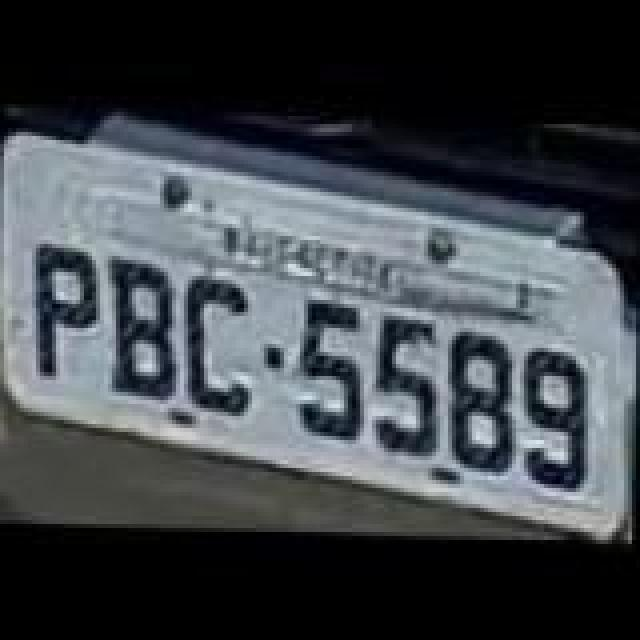5: (296, 298, 372, 446), (366, 314, 446, 454)
8: (440, 326, 516, 470)
9: (516, 340, 600, 488)
B: (108, 260, 184, 400)
C: (182, 274, 262, 418)
P: (28, 242, 104, 382)
